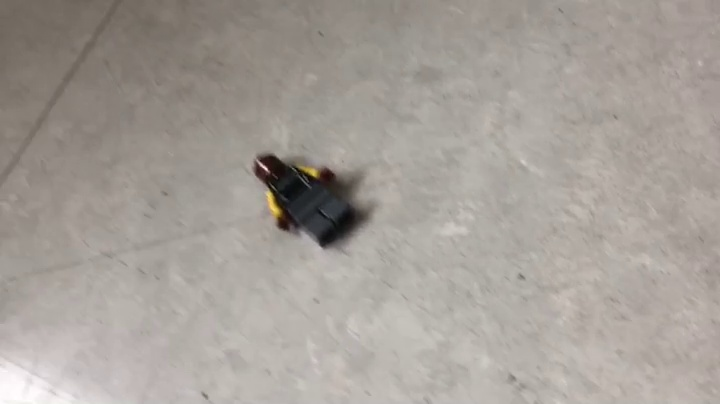people: (252, 153, 362, 250)
